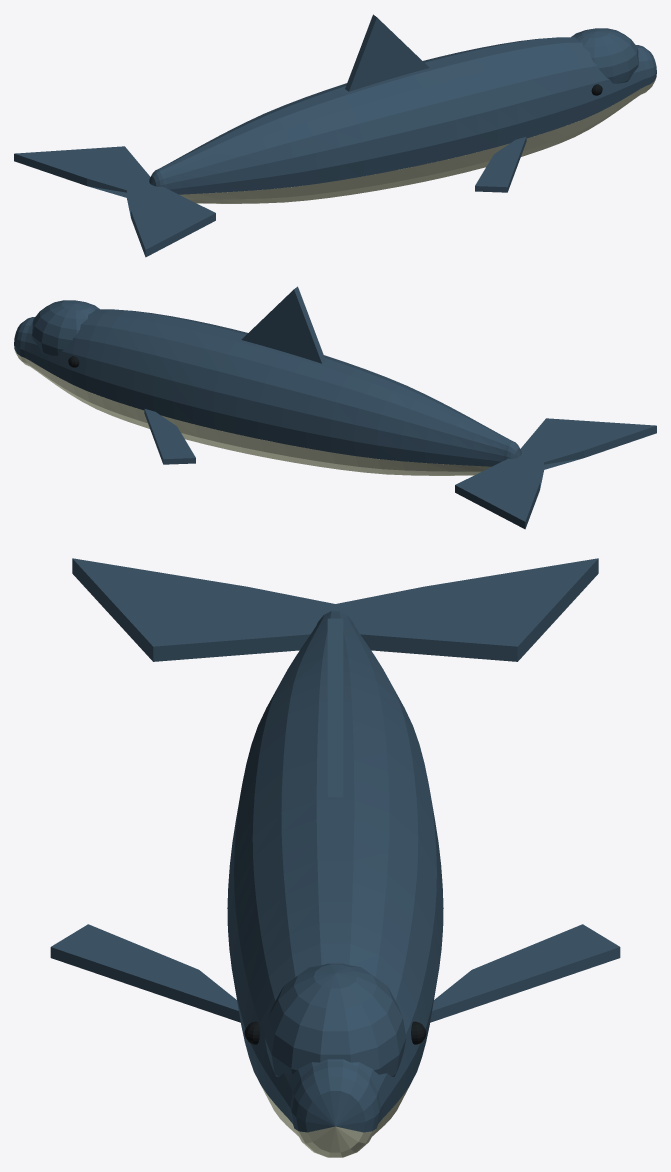
File: pilot-whale.dae
3 views of the same model, one above another, from view 1: azimuth 30°, elevation 25°; view 2: azimuth 150°, elevation 25°; view 3: azimuth 270°, elevation 25° (orthographic). The views are drawn at different scales.
Parts seen in each view (by area): view 1: part2-node, part1-node; view 2: part2-node, part1-node; view 3: part2-node, part1-node.
Boxes of the visible parts, x1,y1,x2,y2 form: part2-node: [14, 14, 656, 257]; part1-node: [179, 77, 656, 203]; part2-node: [14, 286, 656, 529]; part1-node: [14, 349, 491, 475]; part2-node: [50, 558, 620, 1132]; part1-node: [261, 1085, 409, 1157].
Size of the model in its own units: 5 by 2.15 by 1.43.
